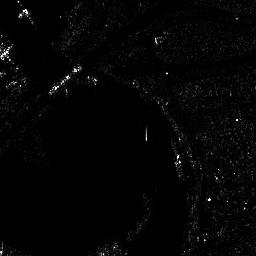ship: (49, 63, 84, 93)
